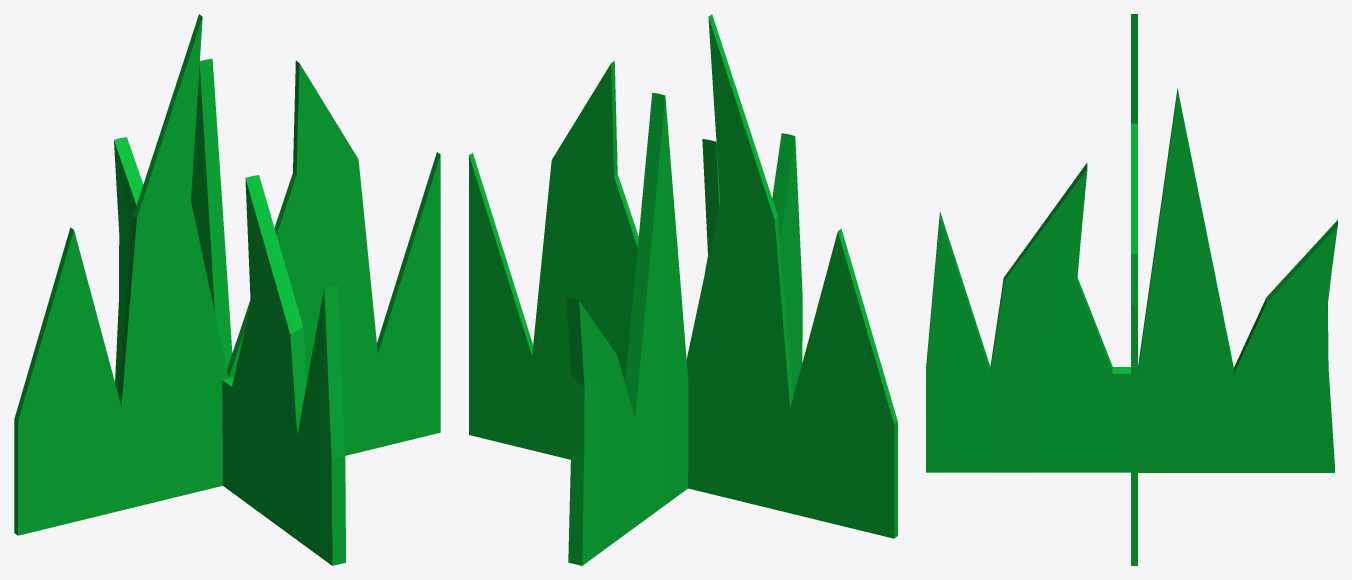
Rendered from grass.fbx.
3 renders of one model, left to right at view 1: azimuth 30°, elevation 25°; view 2: azimuth 150°, elevation 25°; view 3: azimuth 270°, elevation 25°, orthographic. The views are drawn at different scales.
Parts seen in each view (by area): view 1: Plane; view 2: Plane; view 3: Plane.
Part boxes in pixels (box(x1,y1,x2,y2)): Plane: box(14, 14, 440, 565); Plane: box(469, 14, 897, 565); Plane: box(926, 14, 1337, 565).
Bounding box in the file's own units: 4.06 × 4.35 × 3.66.
1 material, 1 textured.
